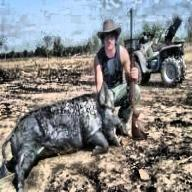boar: (5, 81, 124, 192)
